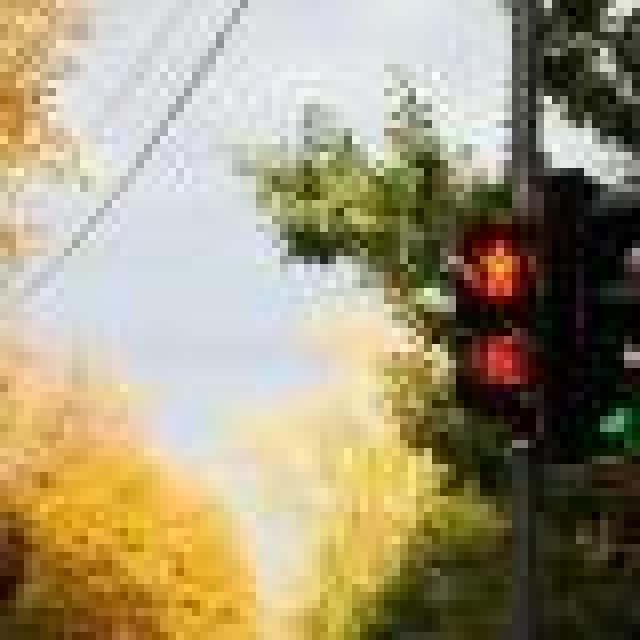redlight: (453, 230, 545, 405)
